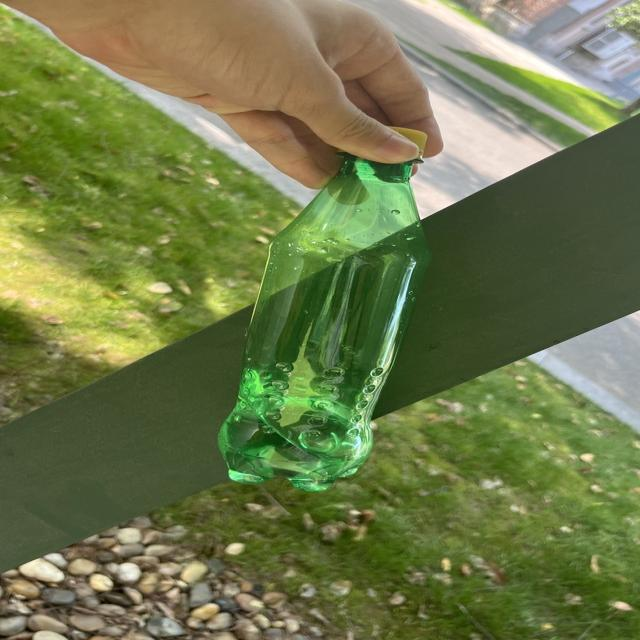low: (218, 151, 429, 490)
